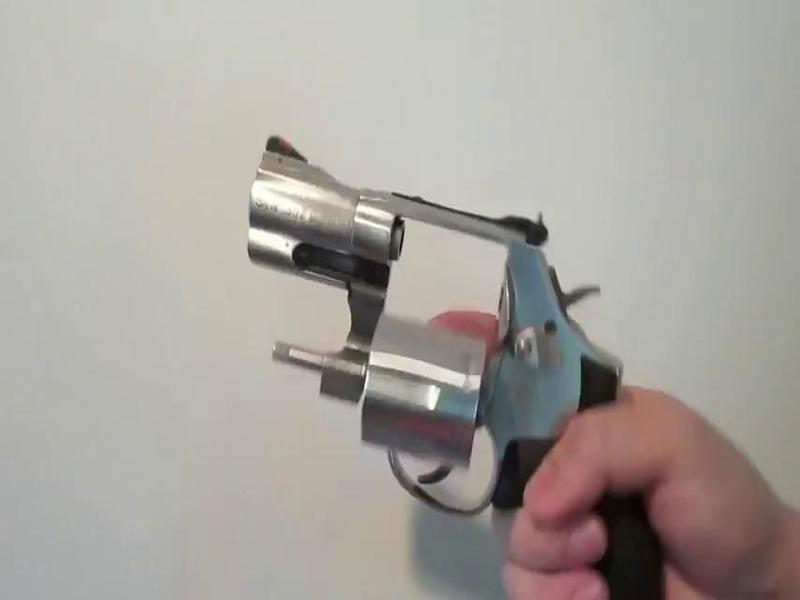Revolver: (233, 130, 676, 600)
